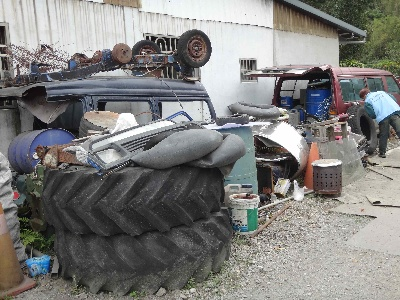bottle: (273, 175, 290, 199)
bucket: (6, 125, 79, 174), (230, 190, 261, 235), (305, 86, 331, 123)
plastic_bag: (291, 178, 308, 202)
tire: (51, 204, 232, 293), (41, 164, 227, 236), (346, 103, 379, 155)
